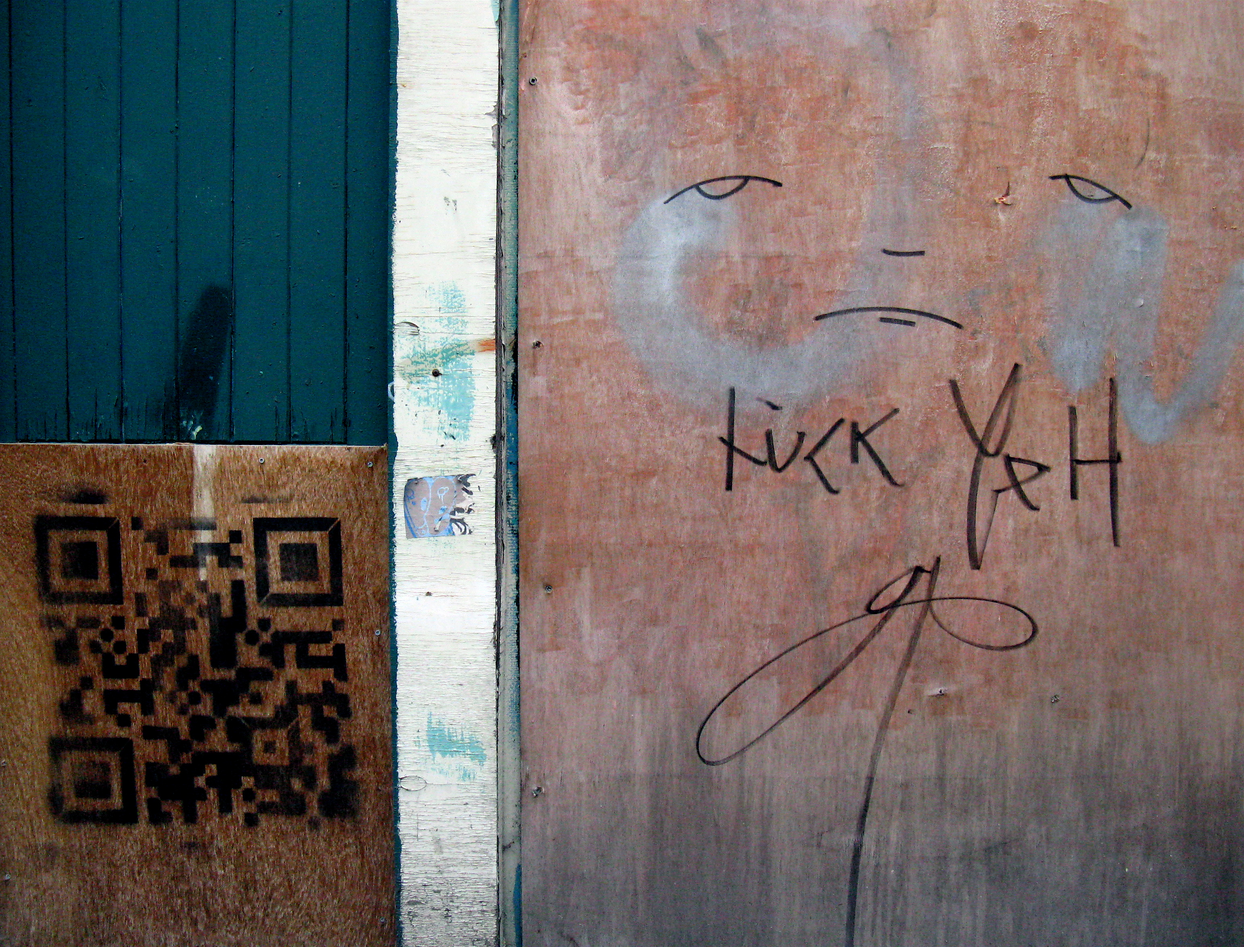QR-CODE: (34, 516, 360, 830)
